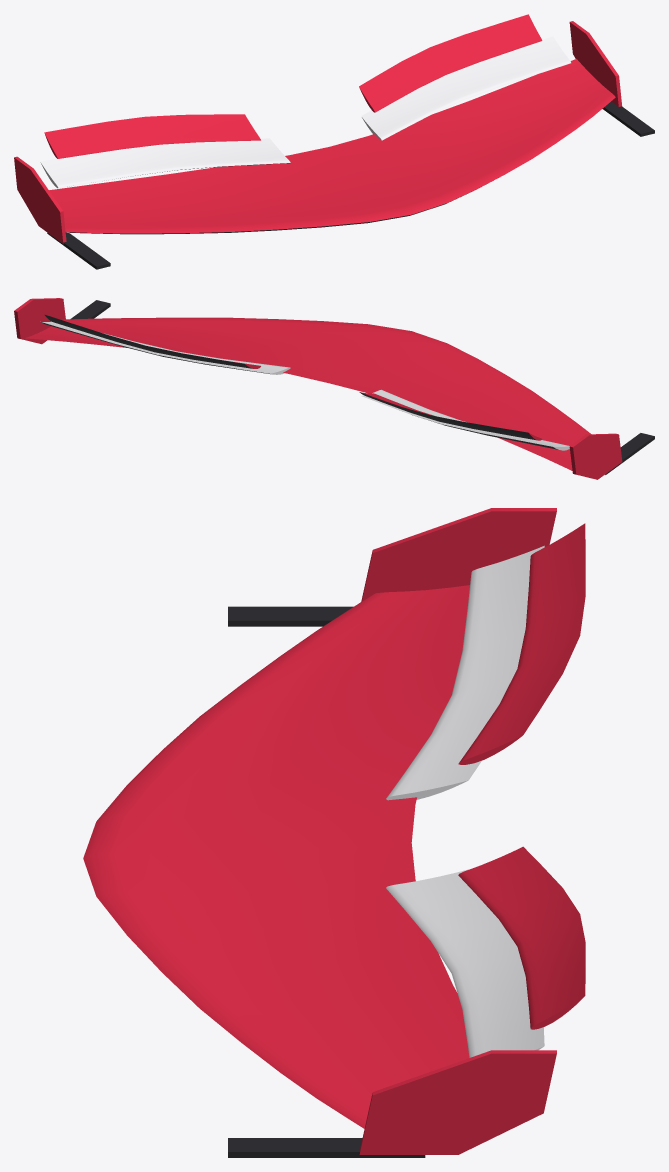
Rendered from delta.glb.
3 views of the same model, one above another, from view 1: azimuth 30°, elevation 25°; view 2: azimuth 150°, elevation 25°; view 3: azimuth 270°, elevation 25° (orthographic). The views are drawn at different scales.
Parts seen in each view (by area): view 1: FrontWing_delta; view 2: FrontWing_delta; view 3: FrontWing_delta.
Boxes of the visible parts, <box> form: FrontWing_delta: <box>14,14,654,269</box>; FrontWing_delta: <box>14,298,654,479</box>; FrontWing_delta: <box>83,508,585,1157</box>.
Size of the model in its own units: 1.96 by 0.2109 by 0.7639.
